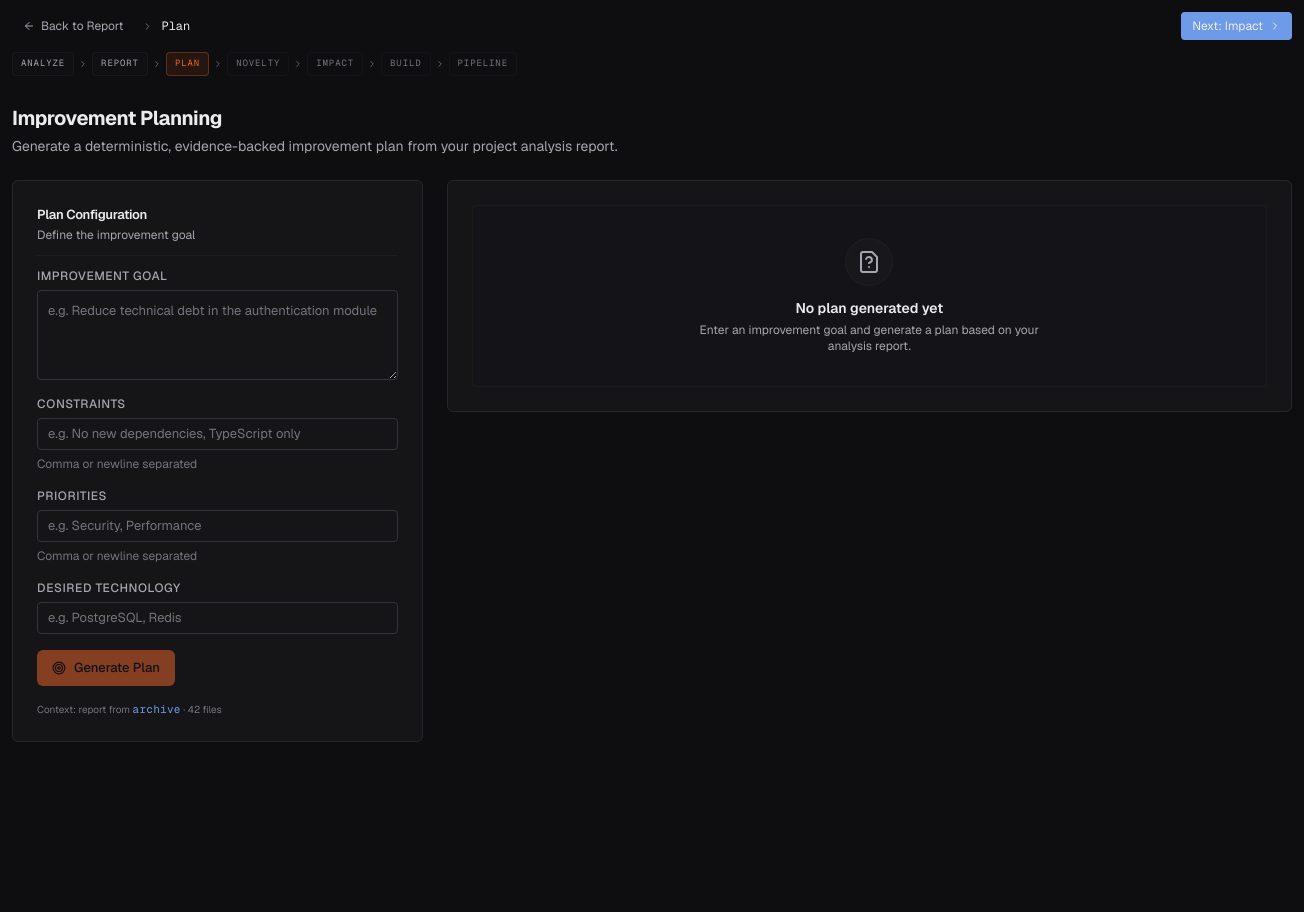
Test: Plan workflow › shows a loading state while generating
The width and height of the screenshot is (1304, 912).
Type "Reduce auth debt" into the text box labelled "Improvement Goal" at x=217, y=334, box top-left (37, 290), bottom-right (398, 380)
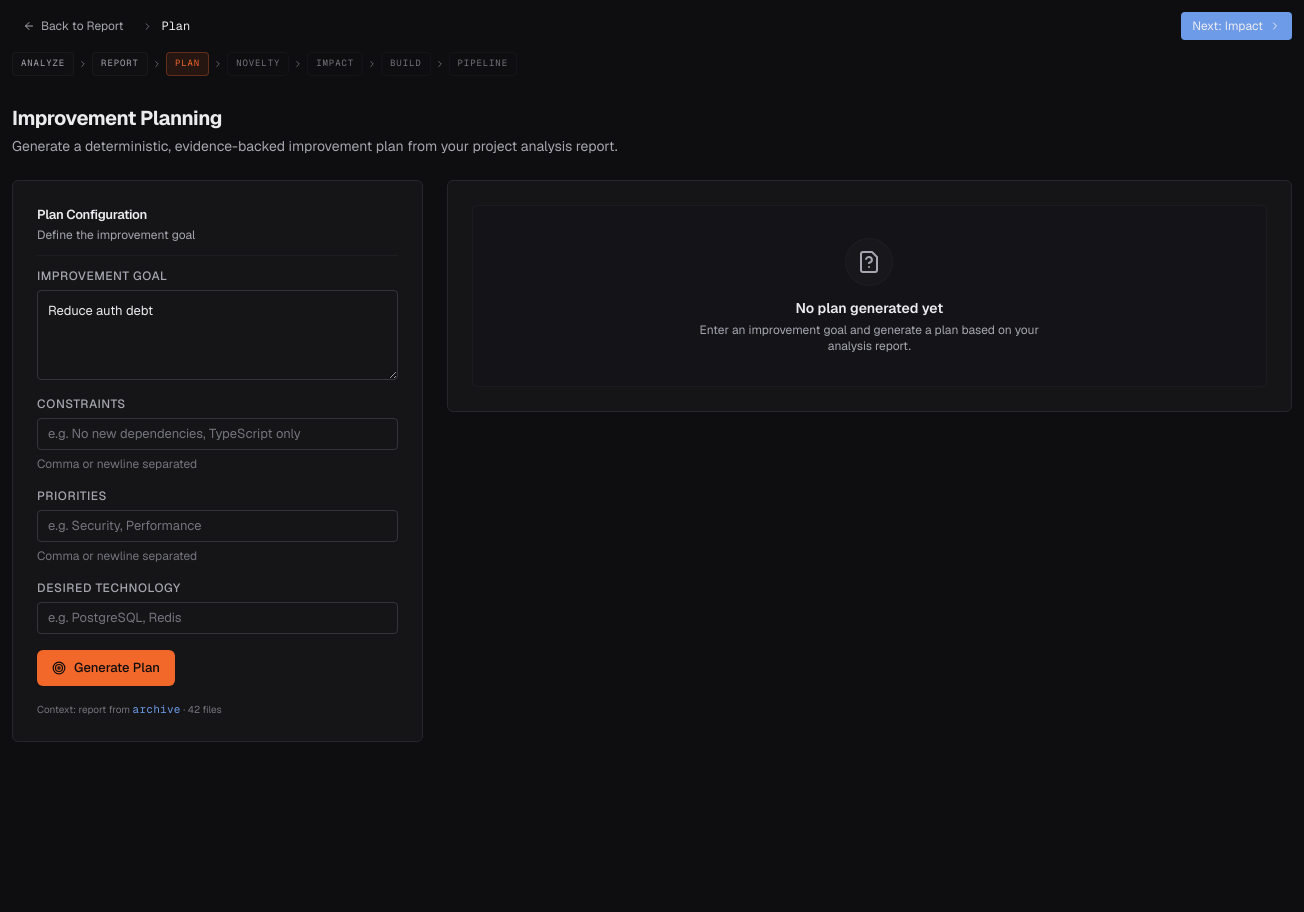
Click the button "Generate Plan" at x=106, y=668, box top-left (37, 650), bottom-right (175, 686)
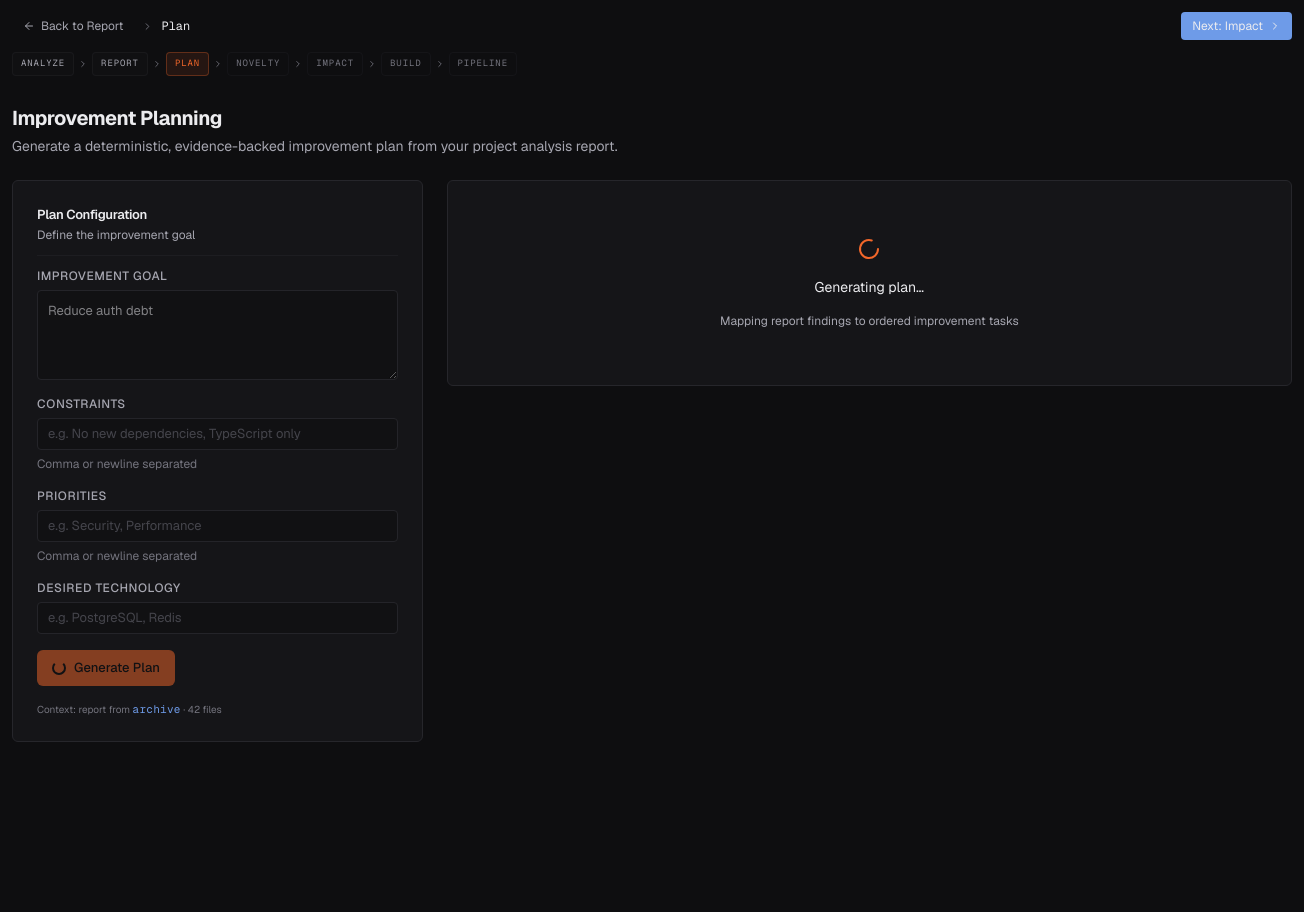
Now the text "Generating plan…" is shown, box top-left (815, 276), bottom-right (924, 296)
